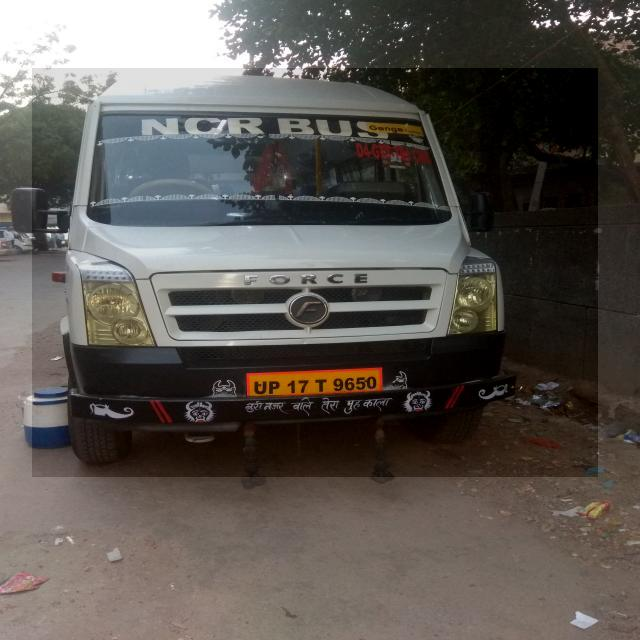Travller: (32, 68, 598, 477)
